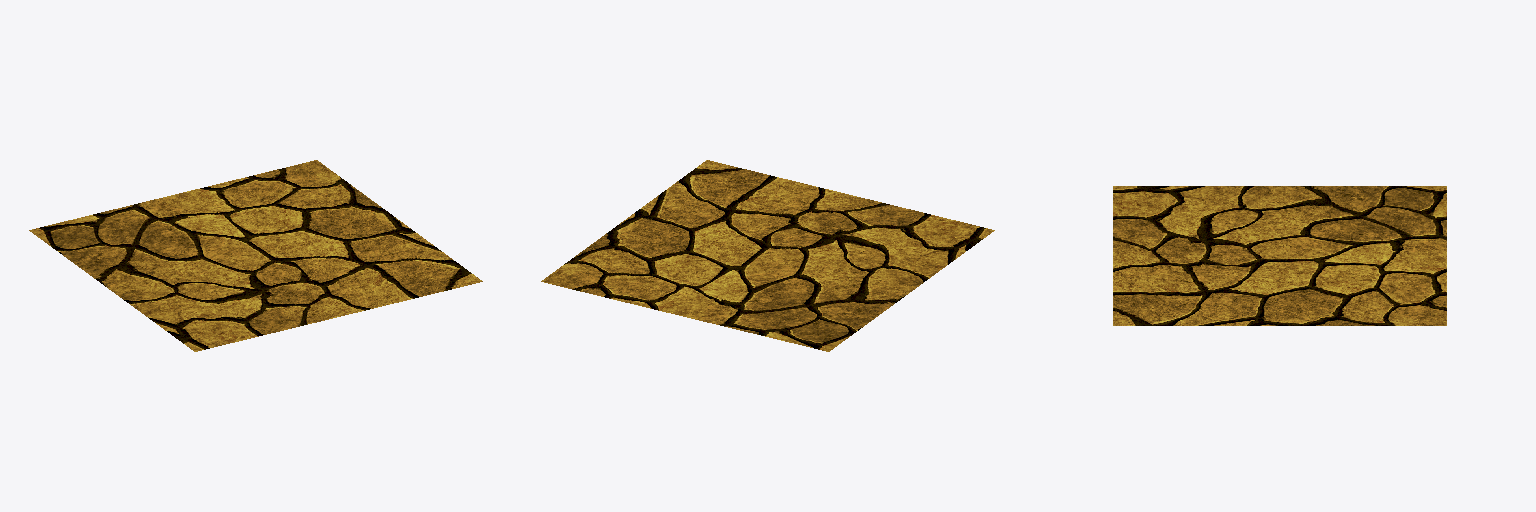
3 renders of one model, left to right at view 1: azimuth 30°, elevation 25°; view 2: azimuth 150°, elevation 25°; view 3: azimuth 270°, elevation 25°, orthographic.
Visible parts, largest first — view 1: mosaic_flloor_x1; view 2: mosaic_flloor_x1; view 3: mosaic_flloor_x1.
Boxes of the visible parts, x1,y1,x2,y2 form: mosaic_flloor_x1: [29, 160, 482, 351]; mosaic_flloor_x1: [541, 160, 994, 351]; mosaic_flloor_x1: [1113, 186, 1446, 325].
Bounding box in the file's own units: 100 × 0 × 100.
Materials: 1 (1 with a texture image).